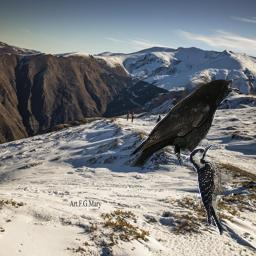Crow: (127, 76, 242, 175)
Woodpecker: (188, 143, 237, 235)
